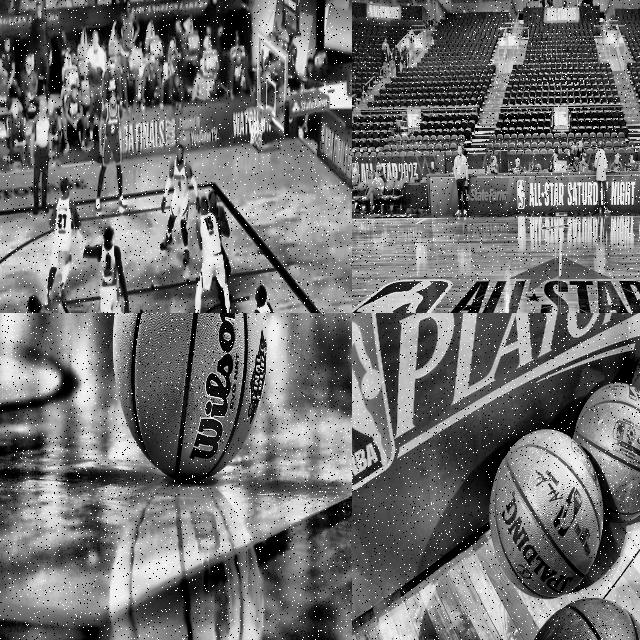Basketball: (112, 313, 267, 480), (489, 430, 604, 599), (574, 382, 640, 522), (132, 45, 143, 67)
